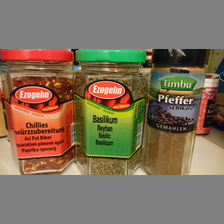spices: (74, 49, 147, 175), (1, 49, 74, 174), (143, 49, 207, 175)
